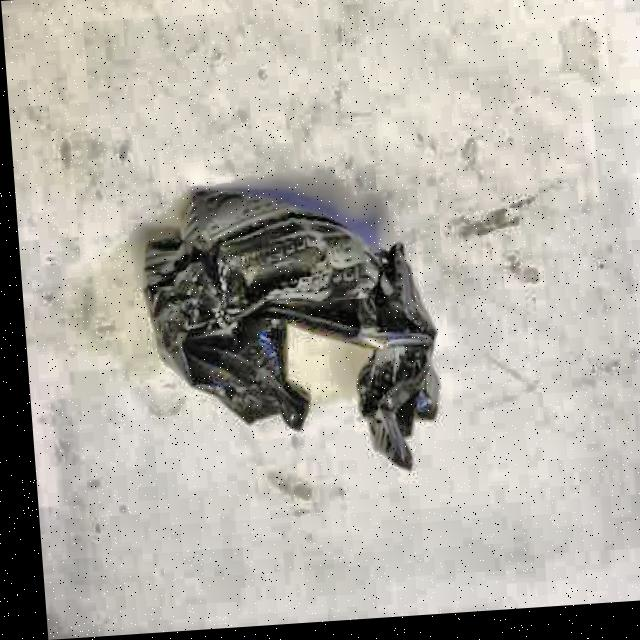plastic: (131, 162, 450, 490)
